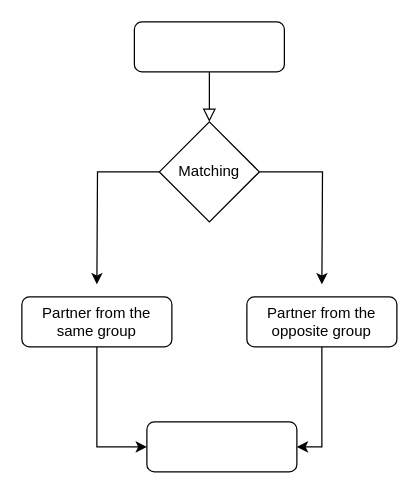
This 419x494 diagram has some shape labels left out. The box of each missing label's shape, as (x1, y1, x2, y2) in pixels:
Dictator's decision: (146, 421, 297, 472)
Quiz: (133, 21, 284, 72)
